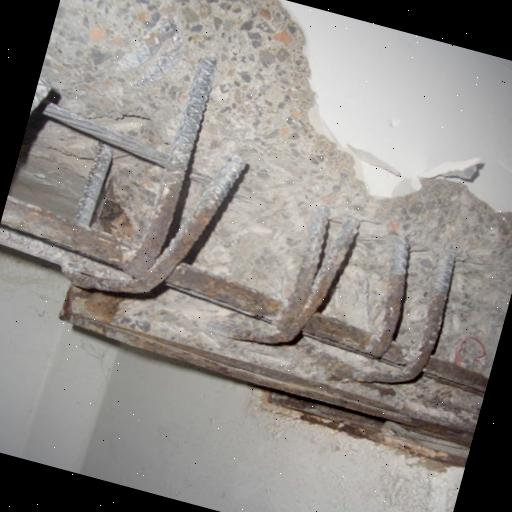spalling: (0, 0, 512, 472)
